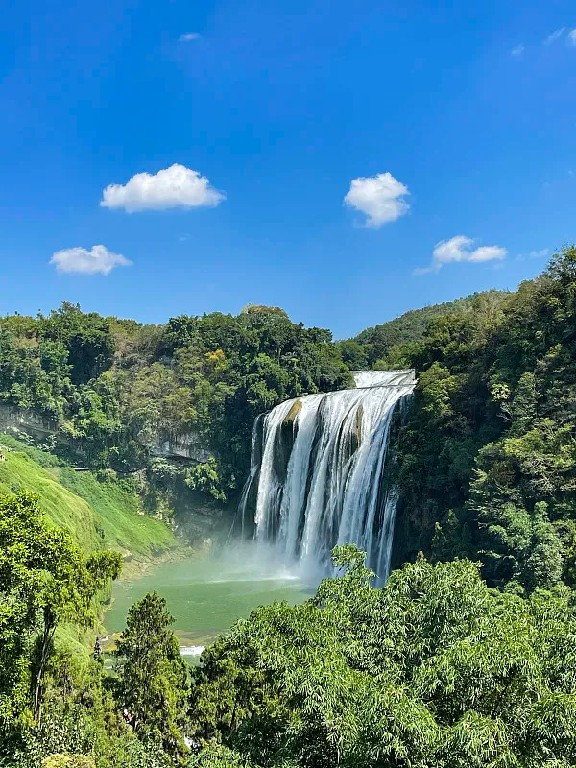Huangguoshu: (246, 371, 417, 584)
